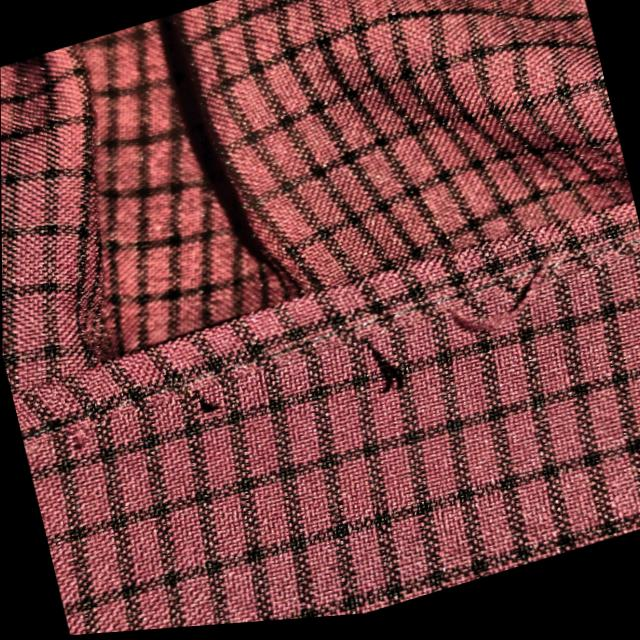Stitch: (423, 236, 611, 385), (310, 282, 438, 441)
